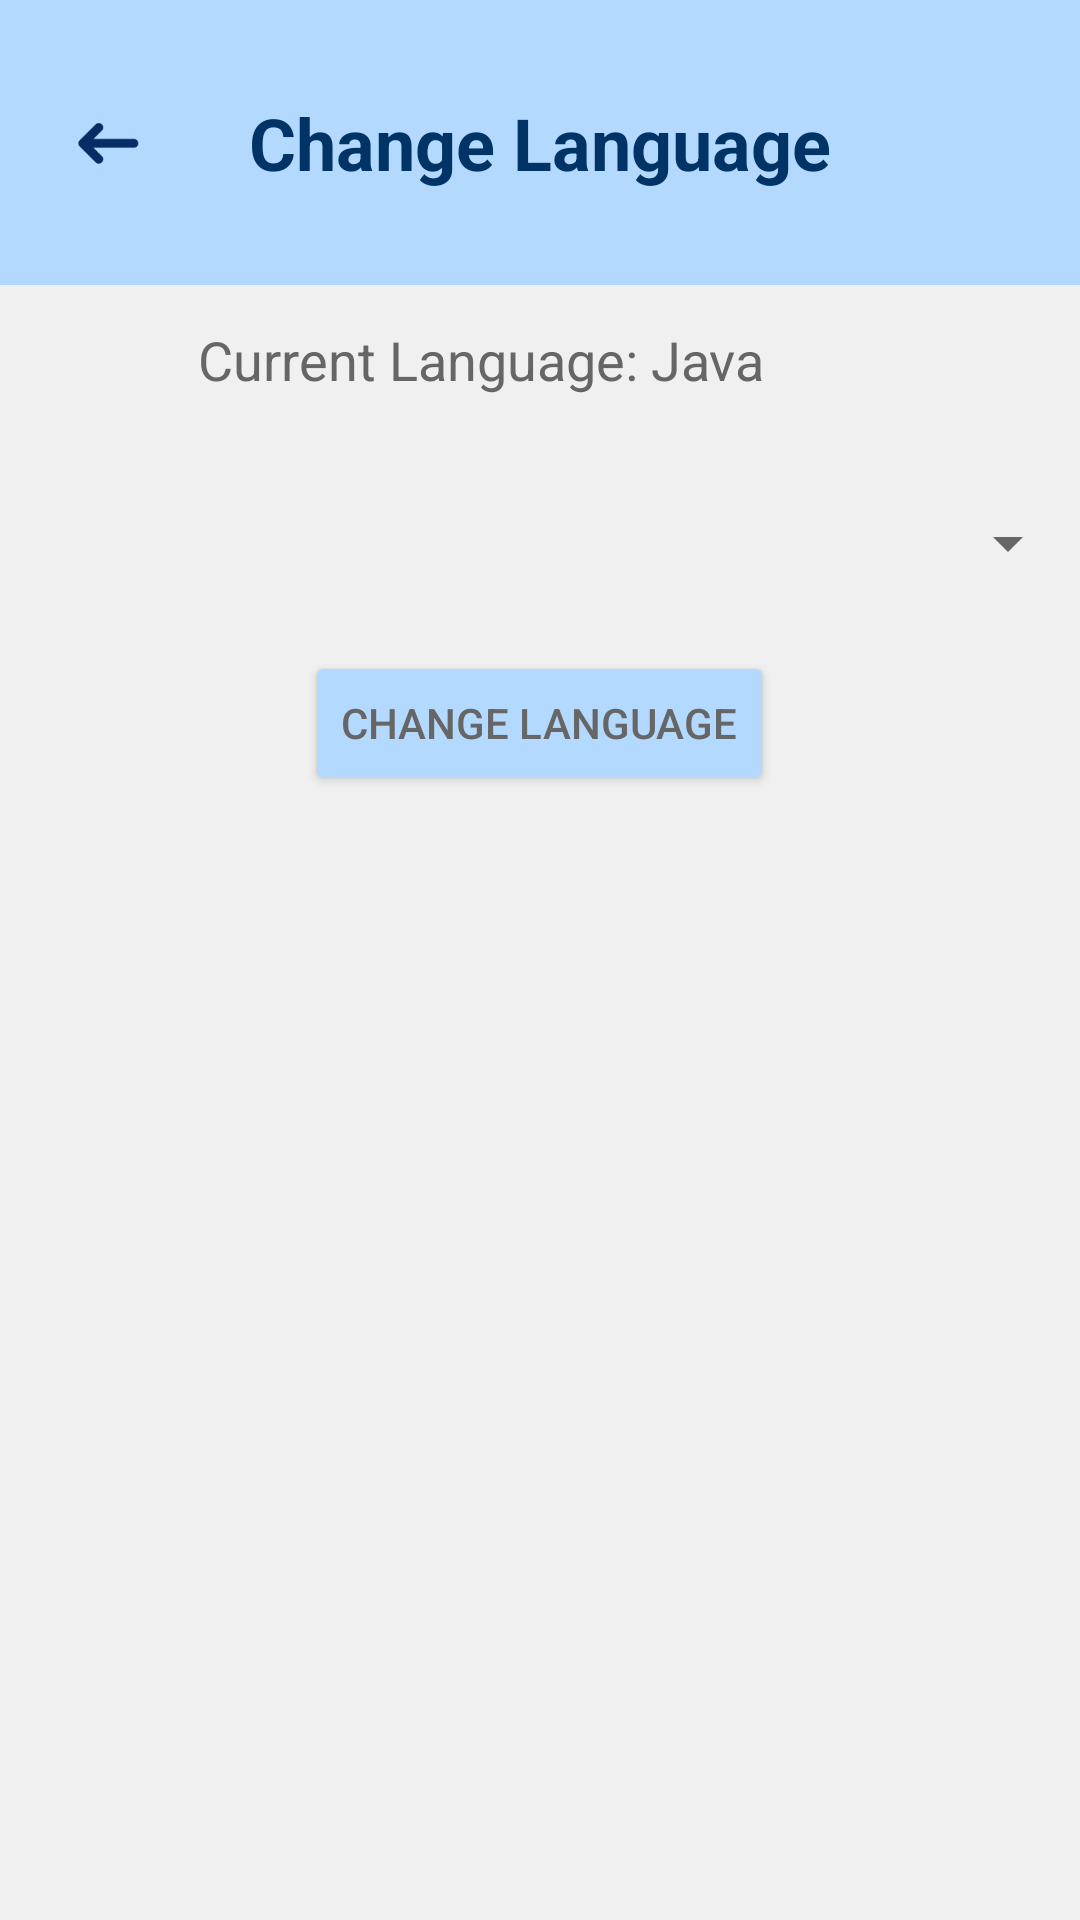

Icon bounding boxes for this 1080px×1920px phone screenshot, format [x1,y1,x2,y2]:
Back: [78,123,139,164]
